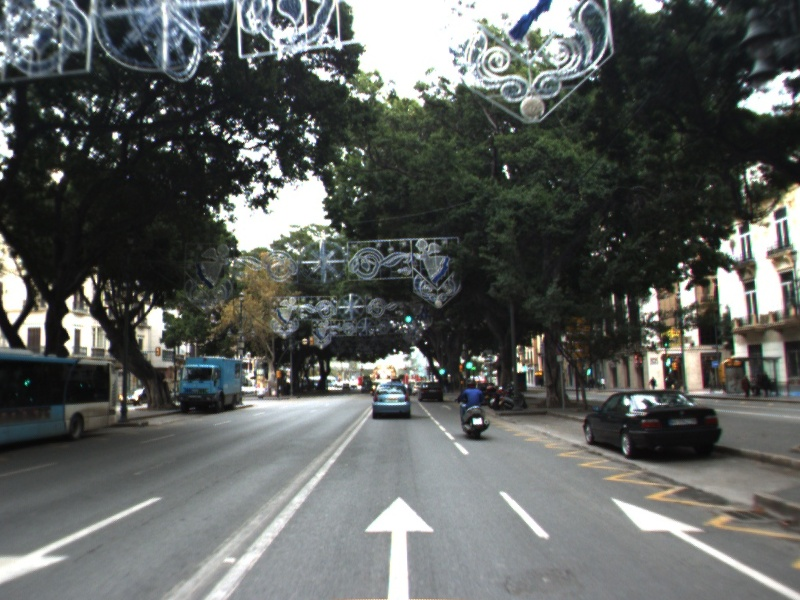STRAIGHT: (605, 493, 800, 600), (362, 492, 438, 600)
